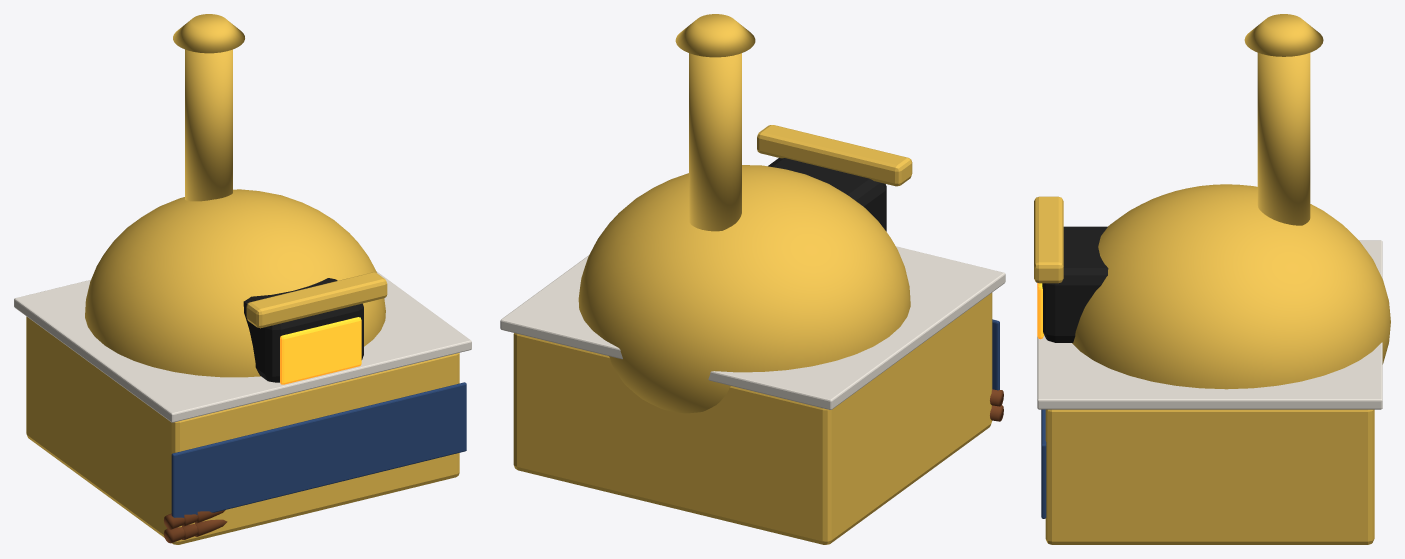
The model's file is forno-oro.glb.
The picture shows the model from 3 angles, left to right: view 1: azimuth 30°, elevation 25°; view 2: azimuth 150°, elevation 25°; view 3: azimuth 270°, elevation 25°; orthographic projection. The views are drawn at different scales.
Parts seen in each view (by area): view 1: Icosphere, Cube, Cube.002, Cube.001, Cylinder, Cube.004, Cube.005, Cube.003, Cone; view 2: Cube, Icosphere, Cube.001, Cylinder, Cube.005, Cone, Cube.003; view 3: Icosphere, Cube, Cube.001, Cylinder, Cube.003, Cube.005, Cone, Cube.002.
Boxes of the visible parts, left/top/right/bottom form: Icosphere: left=85, top=189, right=385, bottom=377; Cube: left=26, top=316, right=459, bottom=544; Cube.002: left=171, top=382, right=466, bottom=517; Cube.001: left=14, top=271, right=471, bottom=422; Cylinder: left=185, top=49, right=232, bottom=201; Cube.004: left=280, top=317, right=361, bottom=384; Cube.005: left=246, top=272, right=387, bottom=328; Cube.003: left=243, top=278, right=363, bottom=382; Cone: left=173, top=14, right=244, bottom=53; Cube: left=513, top=293, right=992, bottom=544; Icosphere: left=578, top=165, right=910, bottom=413; Cube.001: left=500, top=246, right=1005, bottom=409; Cylinder: left=689, top=53, right=741, bottom=231; Cube.005: left=757, top=125, right=912, bottom=186; Cone: left=675, top=14, right=755, bottom=57; Cube.003: left=768, top=158, right=886, bottom=231; Icosphere: left=1072, top=184, right=1390, bottom=389; Cube: left=1045, top=409, right=1374, bottom=544; Cube.001: left=1037, top=240, right=1382, bottom=409; Cylinder: left=1257, top=53, right=1310, bottom=225; Cube.003: left=1042, top=226, right=1108, bottom=342; Cube.005: left=1034, top=196, right=1063, bottom=283; Cone: left=1244, top=14, right=1323, bottom=56; Cube.002: left=1041, top=409, right=1046, bottom=518.
Size of the model in its own units: 2.3 by 3.01 by 2.17.
